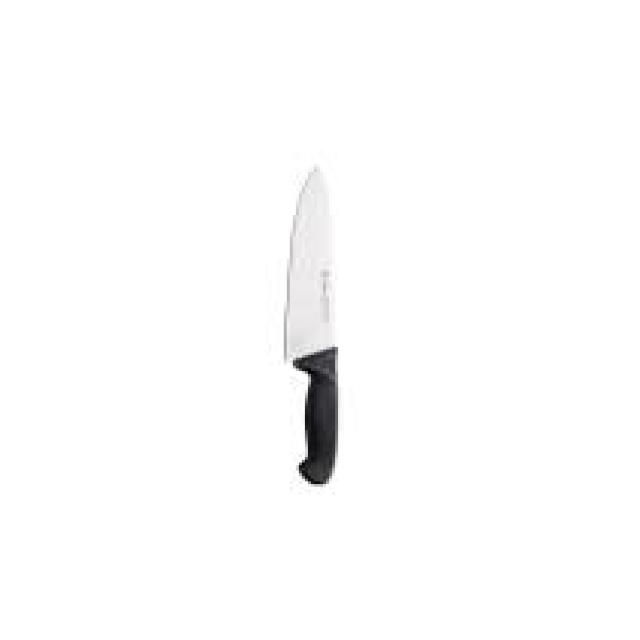Knife: (281, 161, 338, 484)
